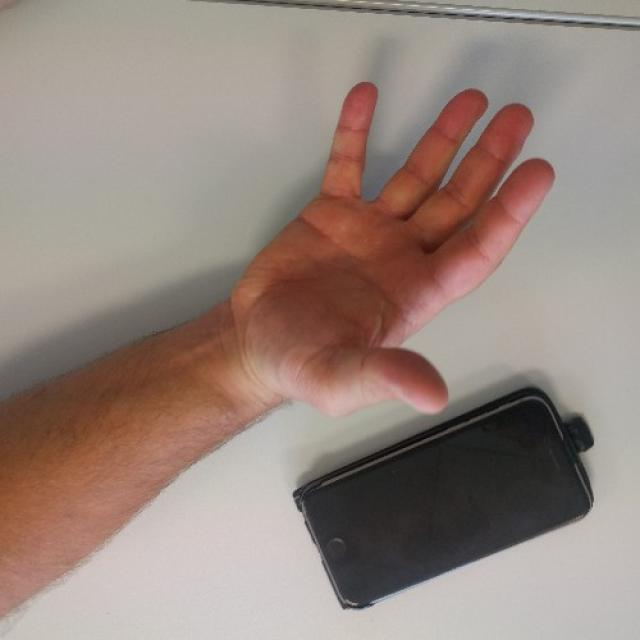paper: (240, 80, 560, 414)
